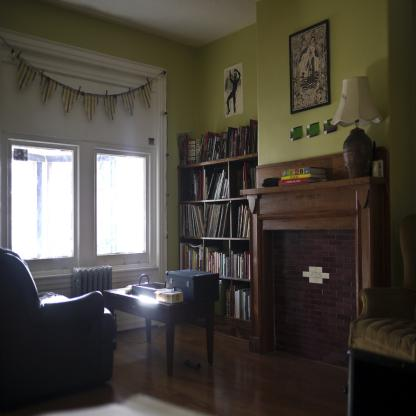book: (186, 118, 258, 164), (177, 203, 230, 238), (224, 282, 252, 324), (204, 164, 230, 200), (206, 244, 230, 276), (180, 242, 204, 272), (184, 166, 204, 202), (237, 165, 258, 194), (232, 250, 252, 279), (238, 202, 250, 238), (281, 166, 328, 174), (280, 171, 327, 178), (278, 178, 327, 184)
